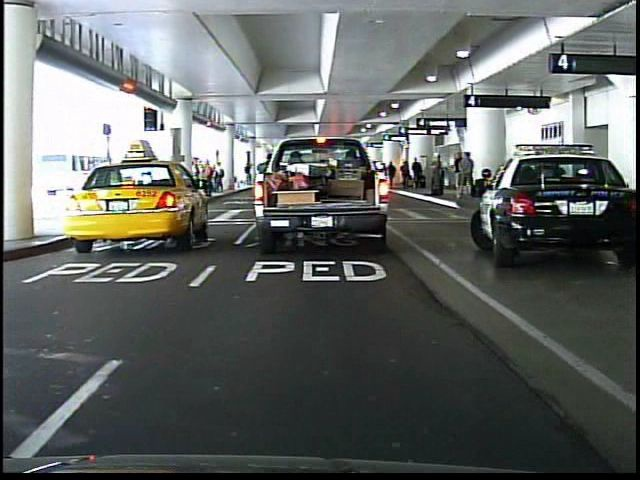person: (253, 149, 280, 221), (317, 144, 341, 205), (243, 160, 256, 189)
